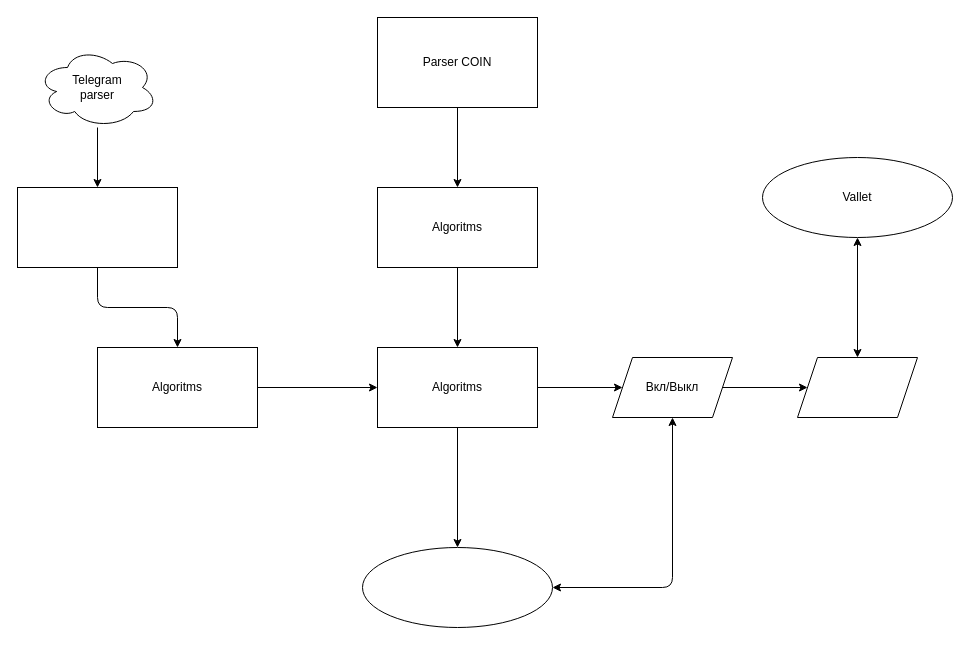
Image size: 970x645. Some labels were removed from this diagram. Here are the shapes that lost their labels. From the top down, the centre of each, then its label:
the point at 97,227: LLM
the point at 857,387: Купить/Продать
the point at 457,587: Telegram Bot
